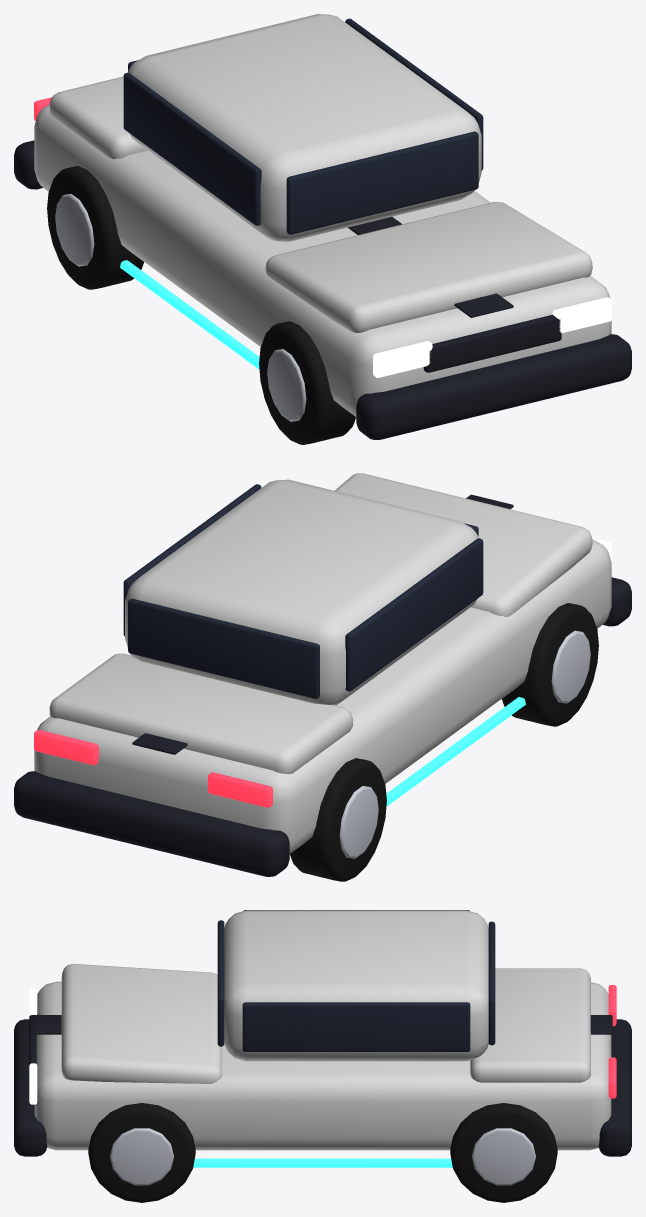
Rendered from ob_car.glb.
The picture shows the model from 3 angles, top to bottom: view 1: azimuth 30°, elevation 25°; view 2: azimuth 150°, elevation 25°; view 3: azimuth 270°, elevation 25°; orthographic projection. The views are drawn at different scales.
Visible parts, largest first — view 1: body, cabin, hood, bumperF, windshield, sidewin-1, tire-1-1.35, tire-11.35, trunk, grille, rim-11.35, rim-1-1.35 (+6 smaller); view 2: body, cabin, trunk, bumperR, hood, rearglass, sidewin-1, tire-11.35, tire-1-1.35, rim-1-1.35, rim-11.35, glow-1 (+5 smaller); view 3: body, cabin, hood, trunk, sidewin1, tire1-1.35, tire11.35, bumperR, rim1-1.35, rim11.35, bumperF, glow1 (+3 smaller).
Part boxes in pixels (x1,y1,x2,y2): body: (34,104,611,416); cabin: (128,14,481,241); hood: (265,202,592,332); bumperF: (356,334,631,439); windshield: (286,131,478,234); sidewin-1: (123,72,261,225); tire-1-1.35: (259,321,356,444); tire-11.35: (47,166,143,289); trunk: (49,76,147,159); grille: (423,314,561,372); rim-11.35: (55,194,94,266); rim-1-1.35: (267,349,306,421); body: (34,539,611,853); cabin: (125,479,478,705); trunk: (49,653,352,774); bumperR: (14,771,289,876); hood: (335,473,592,616); rearglass: (128,598,319,698); sidewin-1: (345,538,483,691); tire-11.35: (290,758,386,881); tire-1-1.35: (502,603,598,726); rim-1-1.35: (551,630,590,703); rim-11.35: (339,786,378,858); glow-1: (386,697,525,806); body: (34,981,611,1150); cabin: (224,910,488,1061); hood: (61,964,222,1083); trunk: (470,968,590,1082); sidewin1: (242,1002,470,1051); tire1-1.35: (88,1103,195,1202); tire11.35: (450,1103,557,1202); bumperR: (598,1019,631,1156); rim1-1.35: (110,1128,173,1185); rim11.35: (472,1128,535,1185); bumperF: (14,1019,47,1156); glow1: (193,1158,452,1167).
Bounding box in the file's own units: 2.12 × 1.63 × 4.61.
